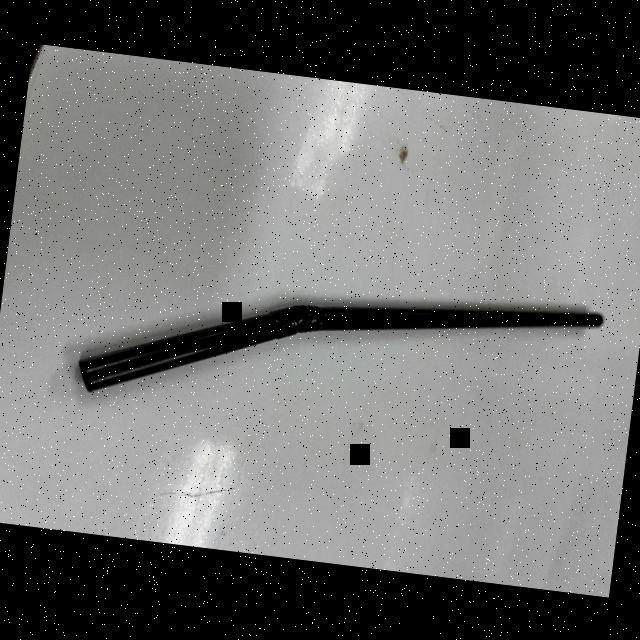straw: (68, 242, 609, 457)
